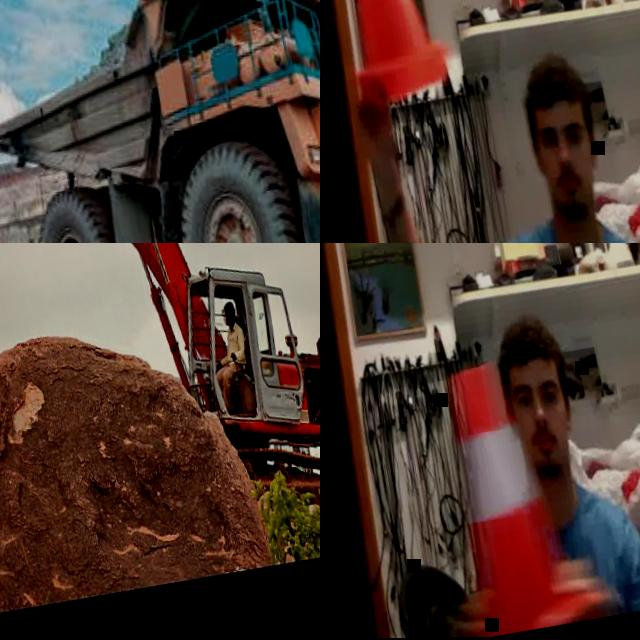NO-Hardhat: (516, 54, 590, 125), (493, 317, 560, 378), (219, 299, 236, 316)
NO-Mask: (544, 169, 594, 218), (527, 431, 569, 478), (223, 317, 235, 329)
NO-Safety Vest: (546, 496, 632, 625), (222, 328, 245, 366)
Person: (398, 304, 640, 638), (350, 38, 640, 243), (200, 298, 255, 414)
Safety Cone: (409, 347, 611, 639), (320, 0, 453, 109)
vehicle: (0, 243, 320, 607), (0, 0, 320, 243)
